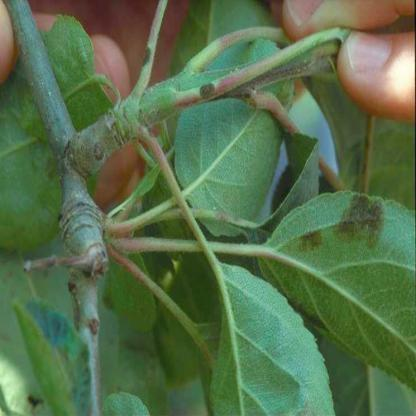Apple Scab Leaf: (263, 187, 415, 369)
